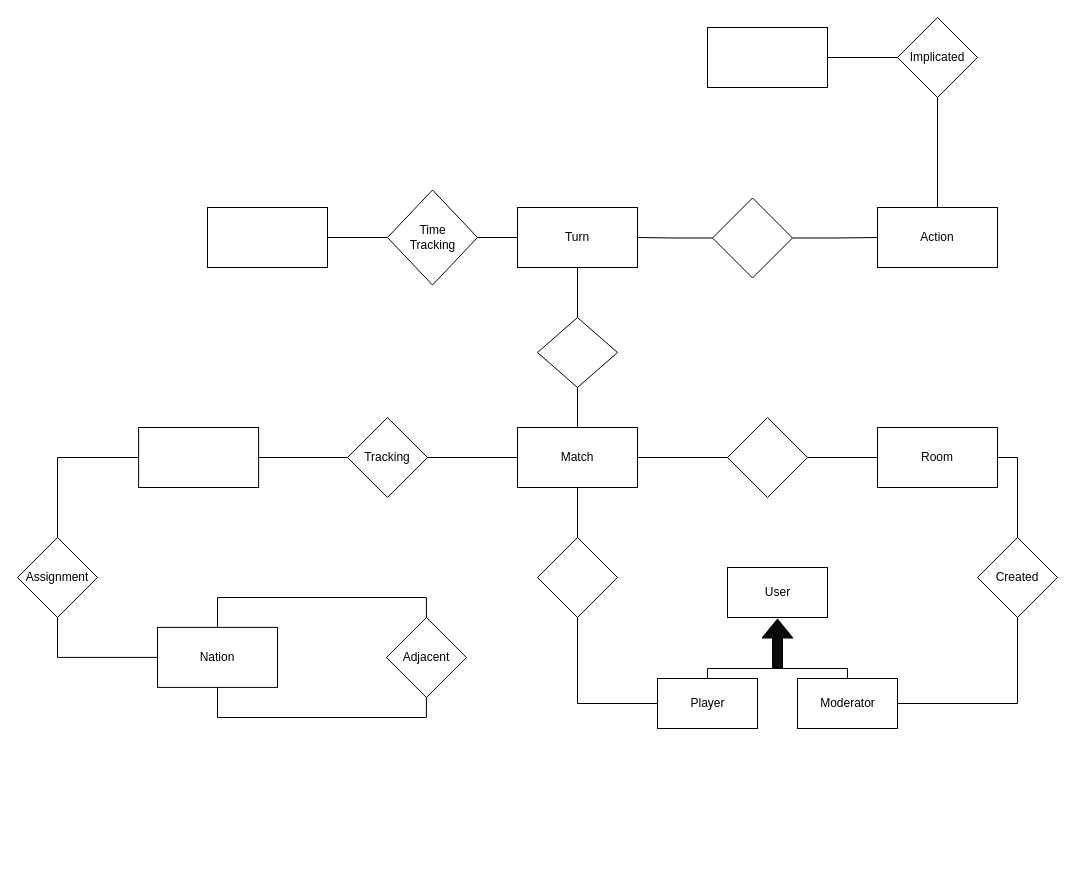
This 1075x875 diagram has some shape labels left out. The centre of each missing label's shape, as x and y in pixels:
Dice Roll: the point at 767,57
Occured: the point at 752,237
Part Of: the point at 577,352
Participate: the point at 577,577
Placed At: the point at 767,457
Scoreboard: the point at 198,457
Timer: the point at 267,237
